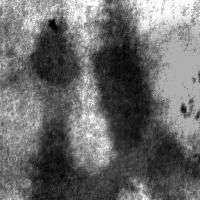patches: (91, 2, 184, 198), (103, 21, 200, 175), (0, 64, 75, 190), (68, 101, 158, 191), (31, 117, 103, 200), (27, 14, 79, 91)
